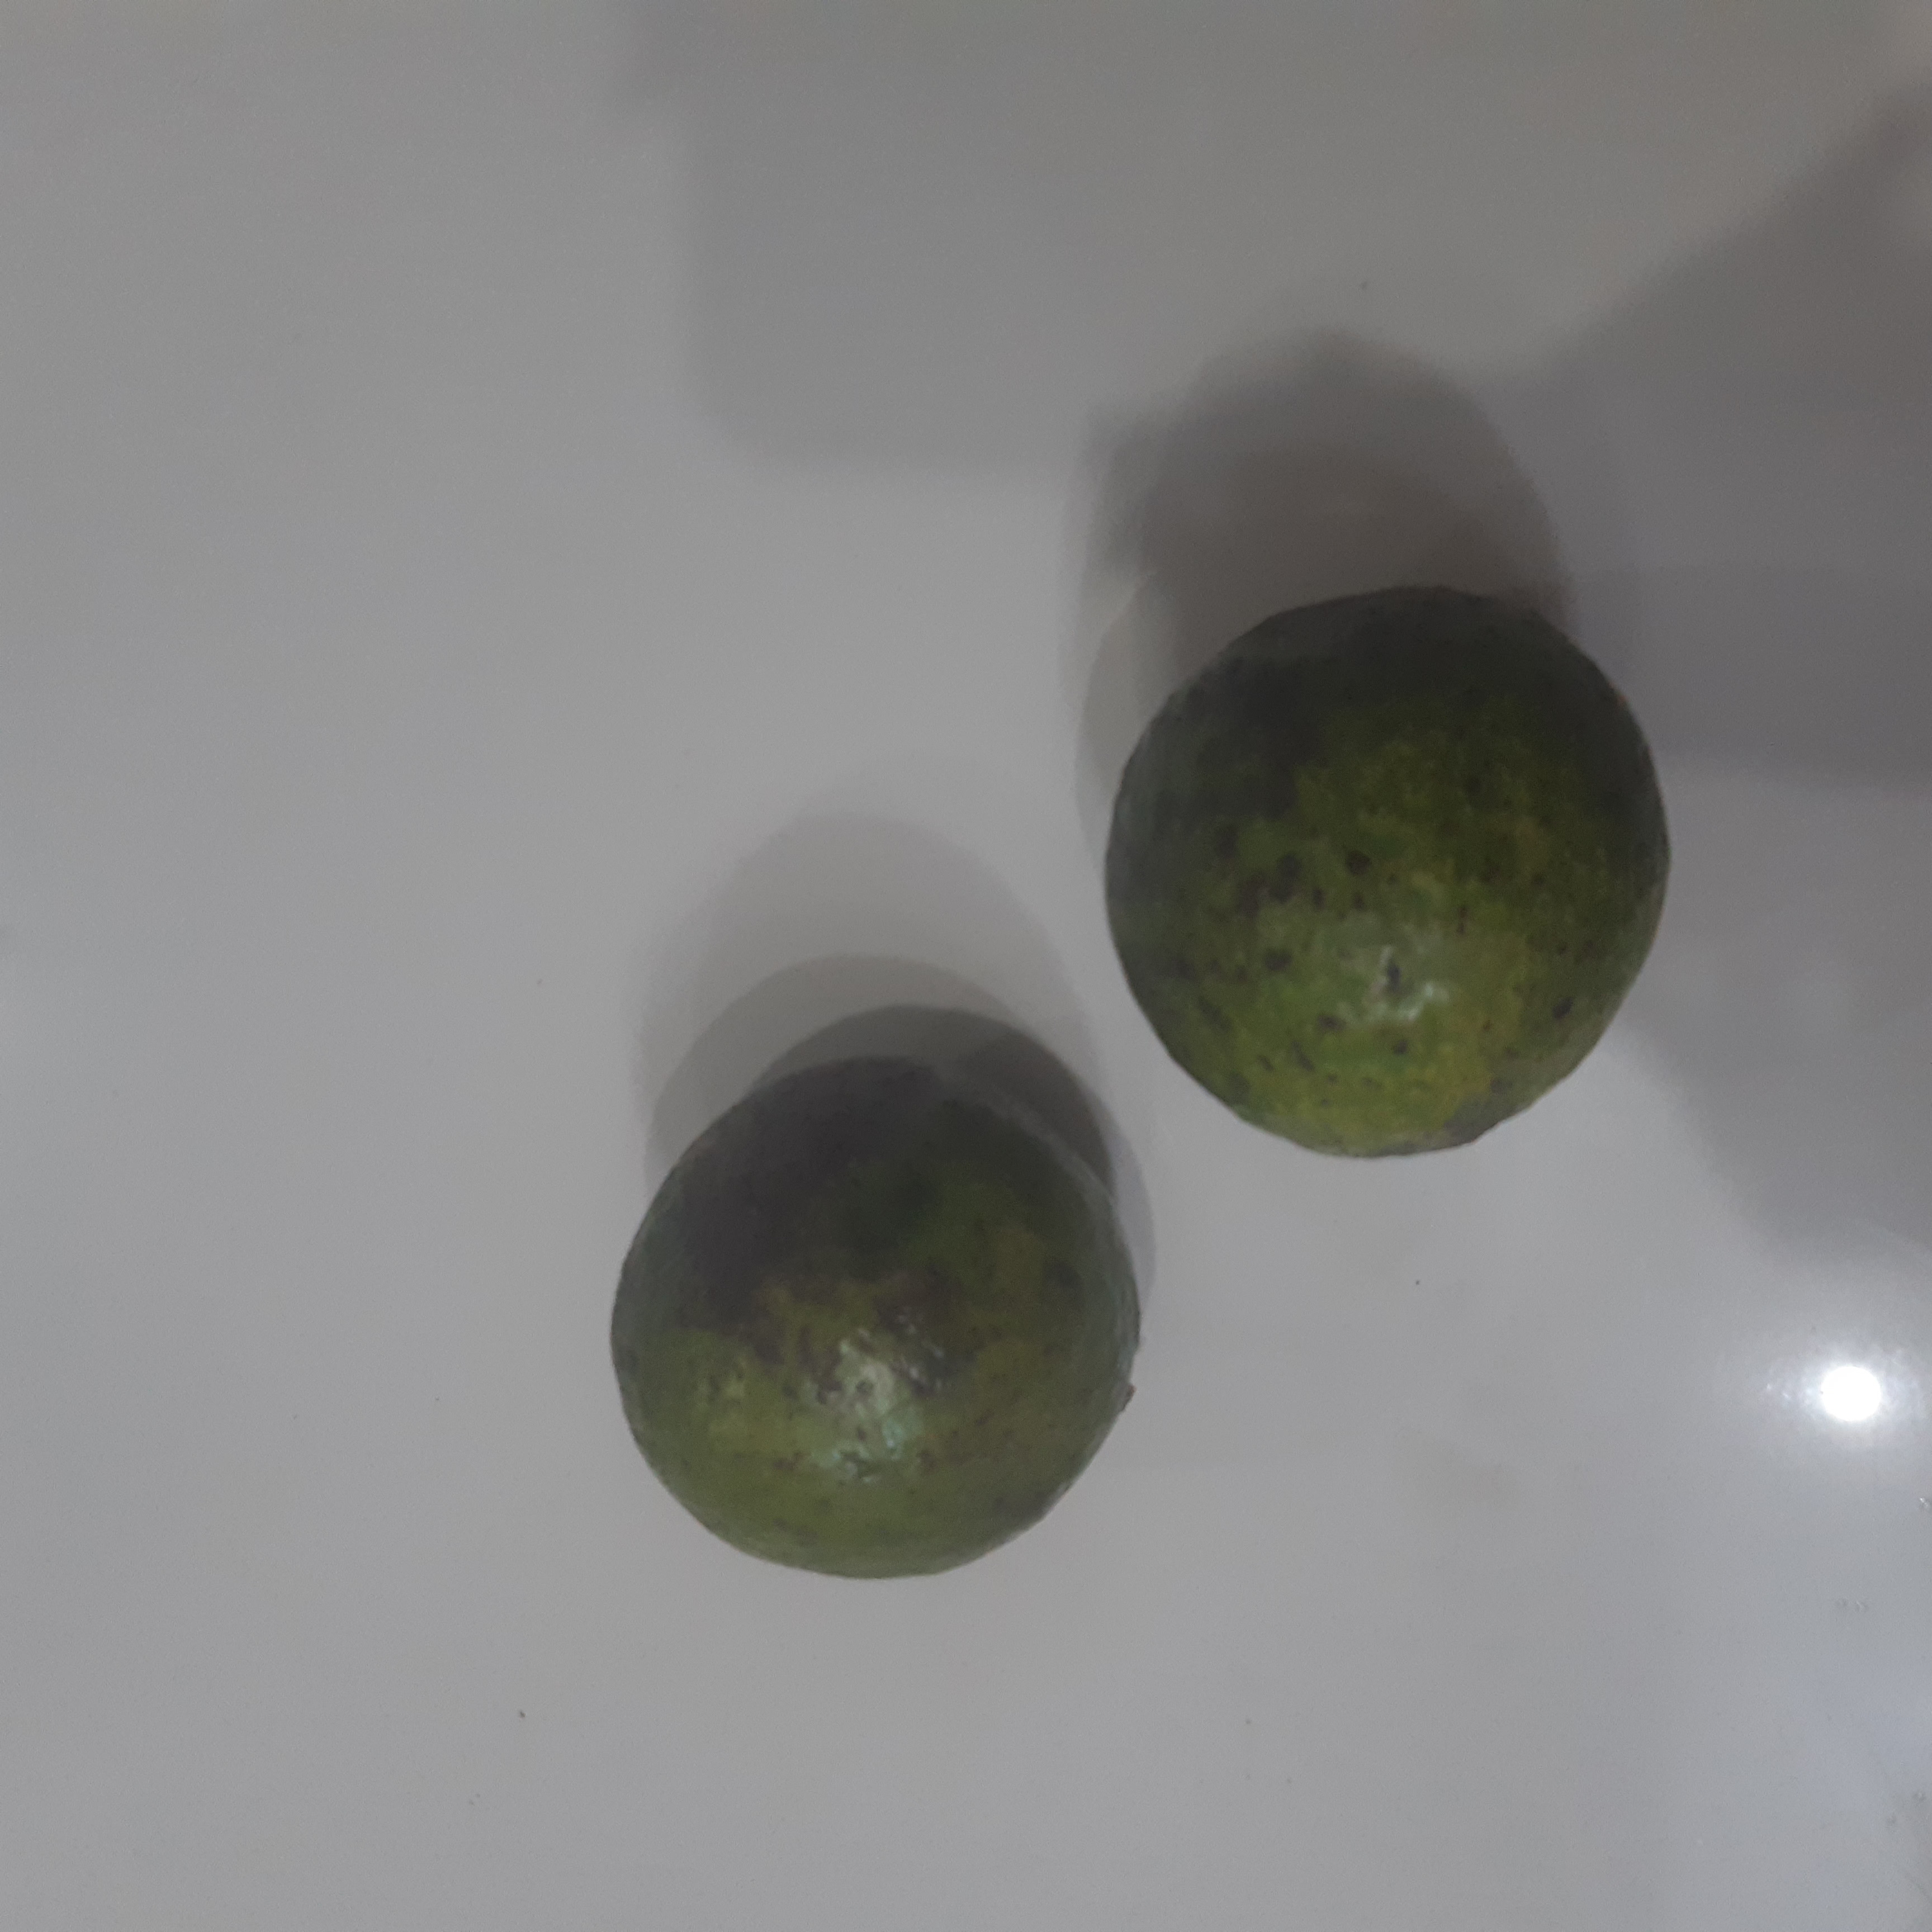Bo: (1104, 580, 1670, 1169), (609, 1049, 1148, 1587)
